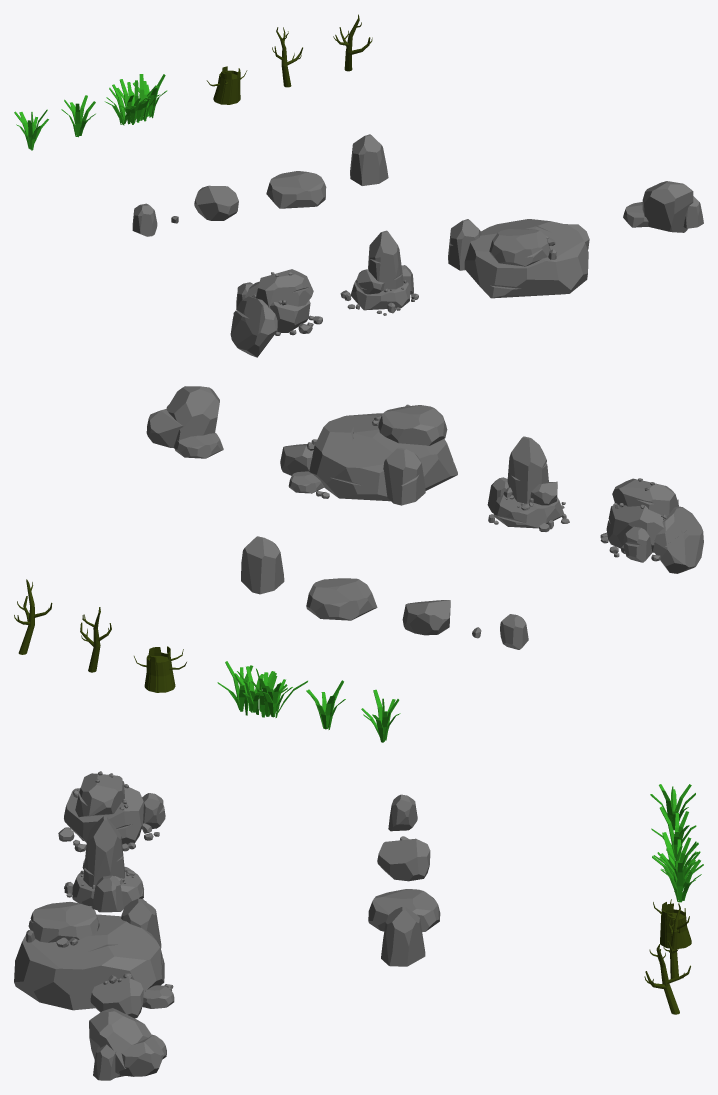
Rendered from pedras.fbx.
3 views of the same model, one above another, from view 1: azimuth 30°, elevation 25°; view 2: azimuth 150°, elevation 25°; view 3: azimuth 270°, elevation 25° (orthographic). The views are drawn at different scales.
Visible parts, largest first — view 1: Rock.011, Rock.016, Rock.008, Rock.021, Rock.002, Plane.001, Rock, Rock.006, Tree.3, Rock.005, Plane, Plane.002 (+1 smaller); view 2: Rock.011, Rock.016, Rock.008, Rock.021, Rock.002, Plane.001, Rock, Rock.006, Tree.3, Rock.005, Plane.002, Tree.2 (+2 smaller); view 3: Rock.011, Rock.016, Rock.008, Rock.021, Rock, Rock.002, Rock.006, Plane.001, Tree.3, Rock.005, Tree.2, Plane.002 (+2 smaller).
Boxes of the visible parts, left/top/right/bottom form: Rock.011: left=448, top=219, right=589, bottom=298; Rock.016: left=230, top=269, right=322, bottom=357; Rock.008: left=340, top=230, right=418, bottom=315; Rock.021: left=623, top=181, right=703, bottom=232; Rock.002: left=266, top=171, right=326, bottom=208; Plane.001: left=104, top=74, right=167, bottom=125; Rock: left=350, top=134, right=388, bottom=185; Rock.006: left=194, top=185, right=238, bottom=220; Tree.3: left=206, top=66, right=247, bottom=104; Rock.005: left=132, top=203, right=157, bottom=236; Plane: left=61, top=95, right=95, bottom=137; Plane.002: left=14, top=109, right=48, bottom=150; Rock.011: left=280, top=404, right=457, bottom=505; Rock.016: left=600, top=478, right=703, bottom=573; Rock.008: left=487, top=436, right=569, bottom=531; Rock.021: left=146, top=386, right=223, bottom=458; Rock.002: left=306, top=578, right=377, bottom=620; Plane.001: left=217, top=661, right=307, bottom=717; Rock: left=241, top=536, right=284, bottom=594; Rock.006: left=402, top=600, right=450, bottom=635; Tree.3: left=134, top=646, right=186, bottom=692; Rock.005: left=500, top=614, right=528, bottom=649; Plane.002: left=361, top=689, right=400, bottom=742; Tree.2: left=14, top=579, right=52, bottom=654; Rock.011: left=14, top=898, right=174, bottom=1018; Rock.016: left=58, top=771, right=165, bottom=852; Rock.008: left=64, top=816, right=146, bottom=912; Rock.021: left=89, top=1008, right=166, bottom=1080; Rock: left=381, top=906, right=425, bottom=966; Rock.002: left=368, top=889, right=440, bottom=931; Rock.006: left=377, top=838, right=430, bottom=881; Plane.001: left=652, top=832, right=703, bottom=902; Tree.3: left=653, top=899, right=691, bottom=948; Rock.005: left=388, top=794, right=417, bottom=831; Tree.2: left=644, top=944, right=690, bottom=1014; Plane.002: left=650, top=784, right=695, bottom=830.
Size of the model in its own units: 2353 by 413 by 2546.
